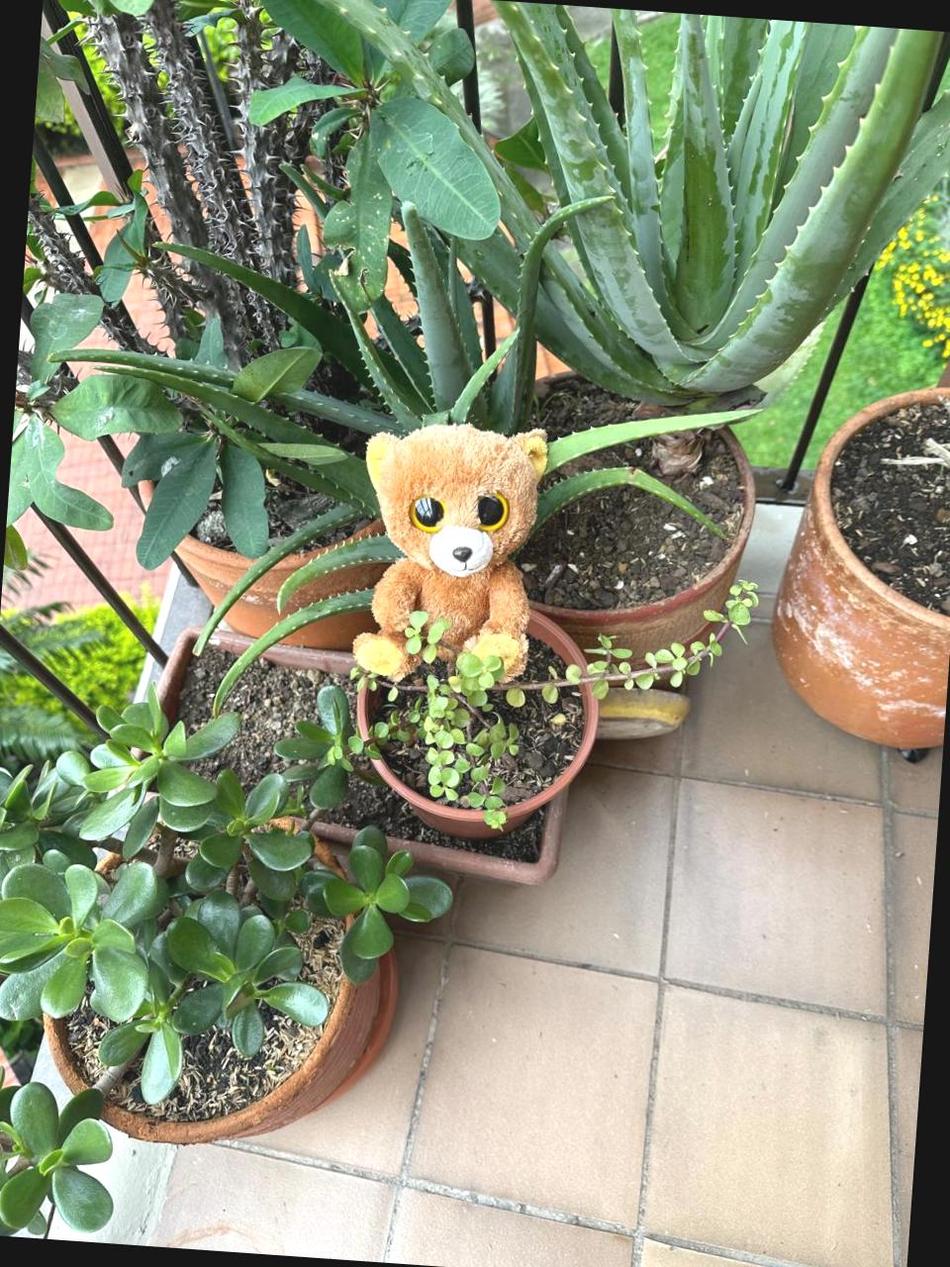peluche_sebastian: (342, 412, 554, 707)
